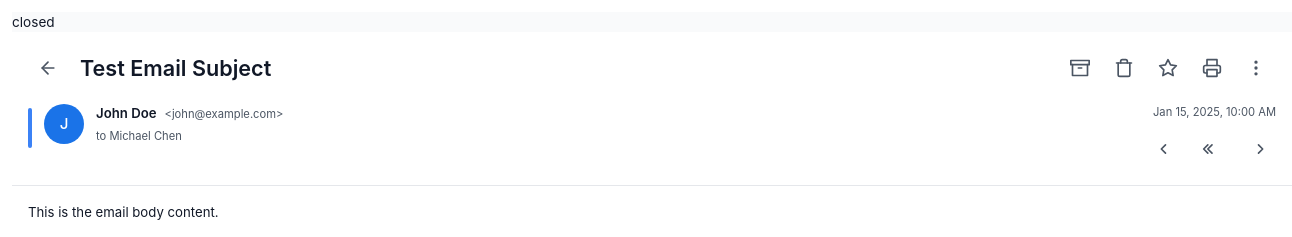
Test: Email Reply Functionality › clicking Reply opens compose with mode=reply and correct replyToId
The width and height of the screenshot is (1292, 237).
Click the button named "reply".
click(1168, 149)  # box top-left (1148, 129), bottom-right (1188, 169)
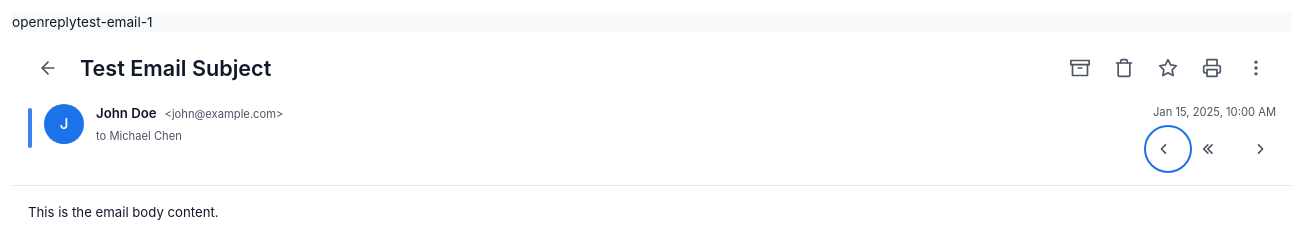
Now the text with test id "compose-state" reads "open", box top-left (12, 14), bottom-right (44, 30)
Now the text with test id "compose-mode" reads "reply", box top-left (44, 14), bottom-right (77, 30)
Now the text with test id "compose-reply-to" reads "test-email-1", box top-left (77, 14), bottom-right (152, 30)
